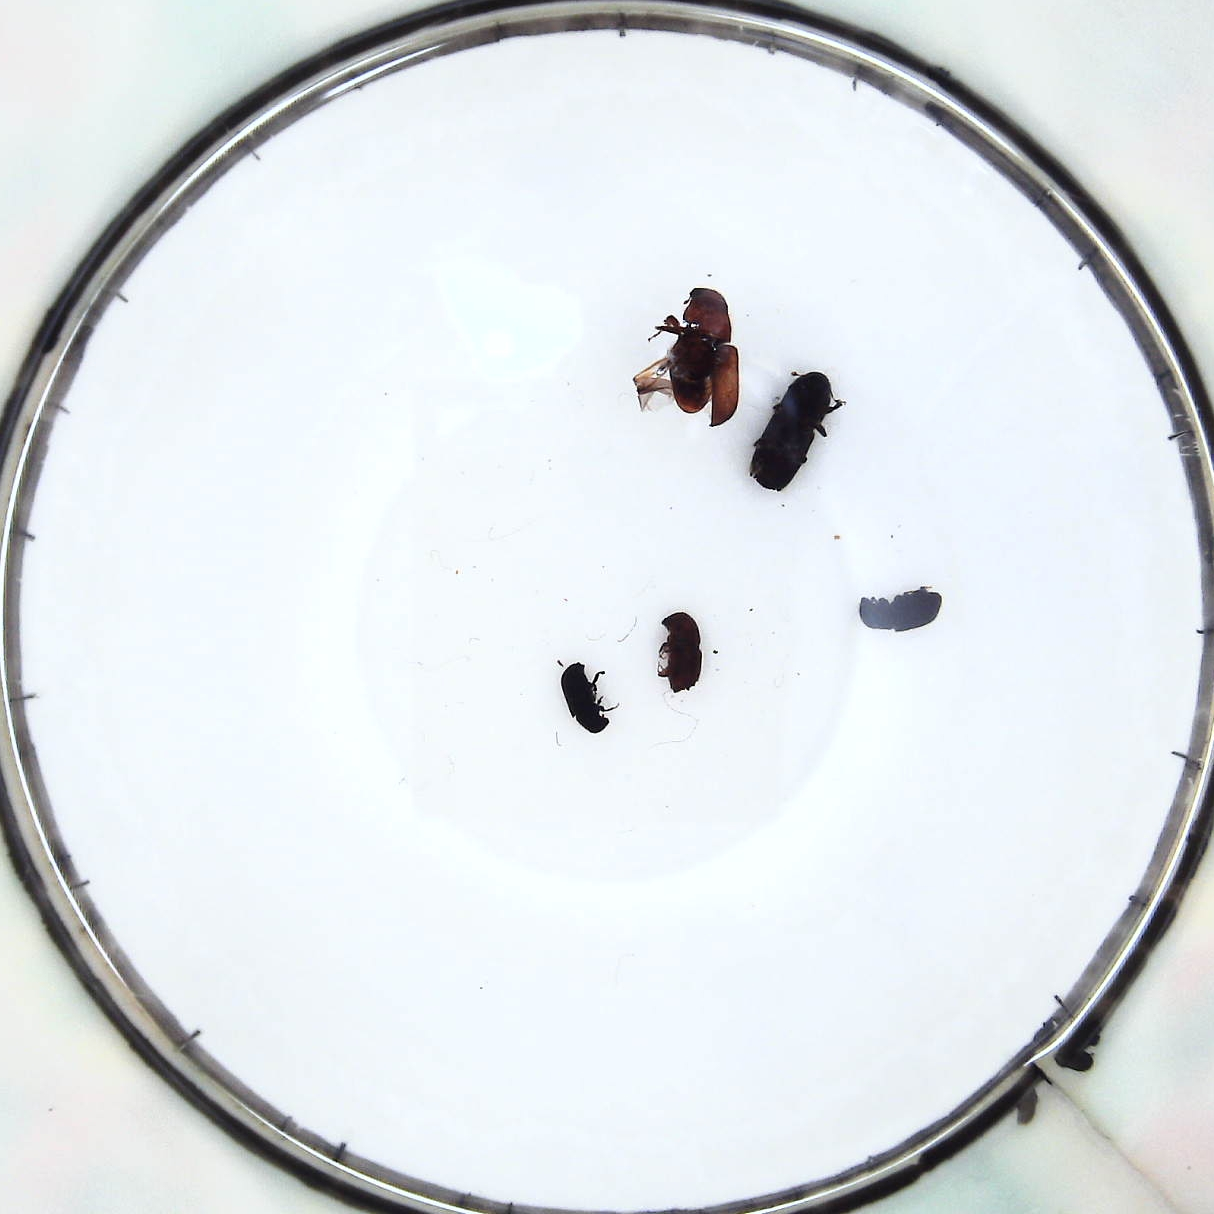Boerner: (752, 376, 837, 491)
Leconte: (634, 281, 739, 425)
Linnaeus: (656, 611, 708, 694)
armandi: (859, 581, 939, 637)
coleoptera: (556, 659, 615, 735)
